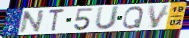5: (73, 7, 94, 32)
N: (19, 9, 46, 34)
Q: (121, 5, 145, 30)
T: (48, 8, 66, 33)
U: (93, 5, 121, 31)
V: (147, 4, 172, 29)
